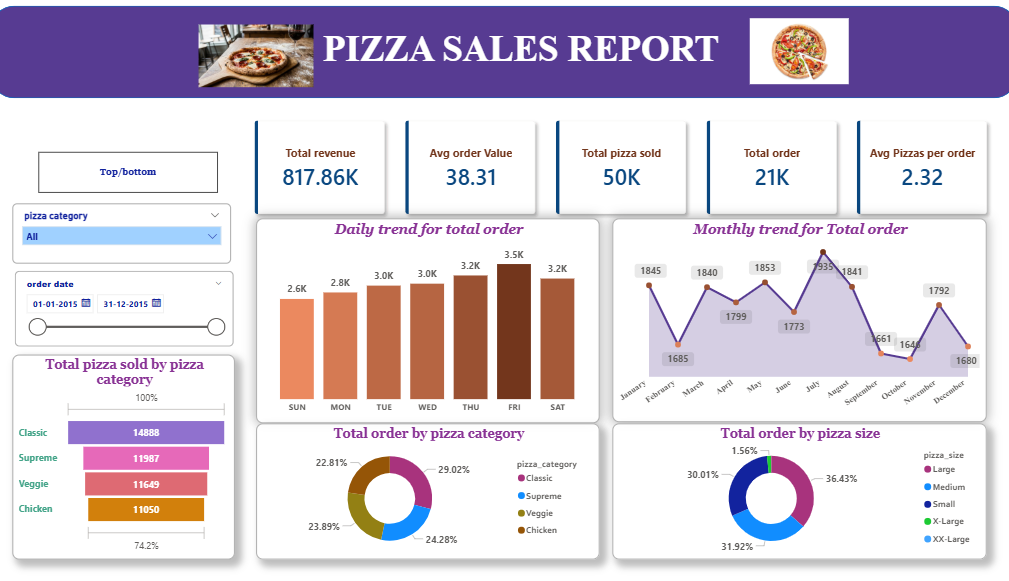

Layout of this report page (visuals, bound fields, positions):
{"tool":"powerbi","page":{"name":"report","canvas":[1700,1000],"ordinal":0},"visuals":[{"type":"shape","box":[0,12.7,1492.7,134.5],"z":0},{"type":"cardVisual","fields":{"Data":["pizza_sales.Total revenue","pizza_sales.Avg order Value","pizza_sales.Total pizza sold","pizza_sales.Total order","pizza_sales.Avg Pizzas per order"]},"box":[353.7,150.7,1125.4,194],"z":1000},{"type":"textbox","box":[110.9,40,1320,78.2],"z":2000},{"type":"image","box":[289.1,40,192.7,90.9],"z":3000},{"type":"image","box":[1103.6,3.6,143.6,150.9],"z":4000},{"type":"columnChart","title":"Daily trend for total order","fields":{"Category":["pizza_sales.Order day"],"Y":["pizza_sales.Total order"]},"box":[385.1,322.4,500,298.5],"z":5000},{"type":"areaChart","title":"Monthly trend for Total order ","fields":{"Category":["pizza_sales.order_date.Variation.Date Hierarchy.Month"],"Y":["pizza_sales.Total order"]},"box":[904.5,322.4,544.8,297],"z":6000},{"type":"donutChart","title":"Total order by pizza category","fields":{"Y":["pizza_sales.Total order"],"Category":["pizza_sales.pizza_category"]},"box":[384.7,620.8,500,198.6],"z":7000},{"type":"donutChart","title":"Total order by pizza size","fields":{"Y":["pizza_sales.Total order"],"Category":["pizza_sales.pizza_size"]},"box":[904.2,620.8,544.4,198.6],"z":8000},{"type":"funnel","title":"Total pizza sold by pizza category","fields":{"Y":["pizza_sales.Total pizza sold"],"Category":["pizza_sales.pizza_category"]},"box":[30.5,520.3,323.7,298.3],"z":9000},{"type":"slicer","fields":{"Values":["pizza_sales.pizza_category"]},"box":[30.5,300,318.6,88.1],"z":10000},{"type":"slicer","fields":{"Values":["pizza_sales.order_date"]},"box":[33.9,398.3,318.6,110.2],"z":11000},{"type":"actionButton","box":[69,226,261,59],"z":12000}]}

Visuals, with their boxes in screenshot pixels (x1, y1, x2, y2), scaled from the page's 1700x1000 canvas onto the 1009x581 screenshot:
shape: Rect(0, 7, 886, 86)
cardVisual - pizza_sales.Total revenue x pizza_sales.Avg order Value: Rect(210, 88, 878, 200)
textbox: Rect(66, 23, 849, 69)
image: Rect(172, 23, 286, 76)
image: Rect(655, 2, 740, 90)
"Daily trend for total order" columnChart: Rect(229, 187, 525, 361)
"Monthly trend for Total order " areaChart: Rect(537, 187, 860, 360)
"Total order by pizza category" donutChart: Rect(228, 361, 525, 476)
"Total order by pizza size" donutChart: Rect(537, 361, 860, 476)
"Total pizza sold by pizza category" funnel: Rect(18, 302, 210, 476)
slicer - pizza_sales.pizza_category: Rect(18, 174, 207, 225)
slicer - pizza_sales.order_date: Rect(20, 231, 209, 295)
actionButton: Rect(41, 131, 196, 166)
